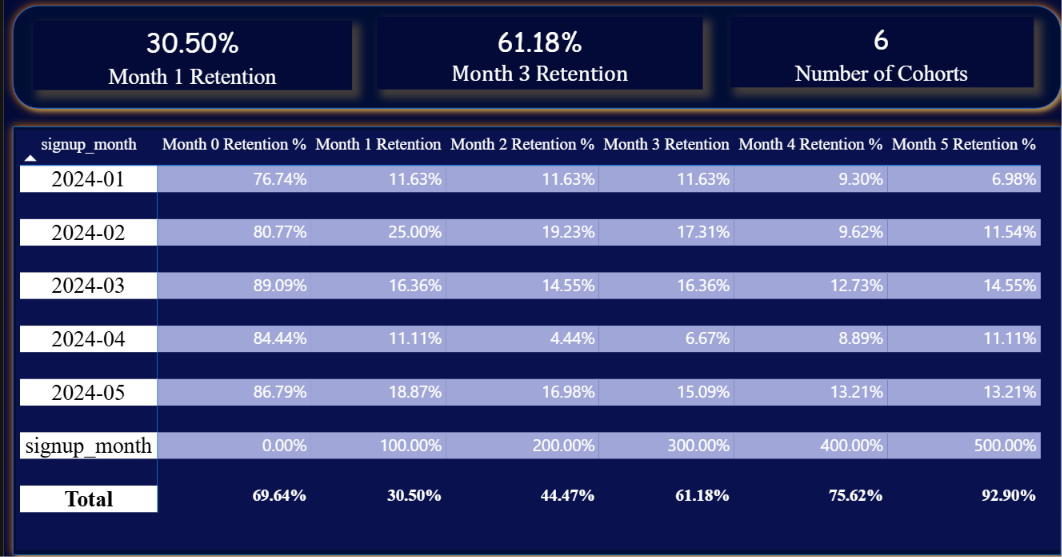

This screenshot's page, from the dashboard's own definition file:
{"tool":"powerbi","page":{"name":"Cohort Retention Analysis","canvas":[1280,680],"ordinal":2},"visuals":[{"type":"shape","box":[0,0,1279.8,144.8],"z":0},{"type":"shape","box":[0,144.7,1280,535.7],"z":1000},{"type":"card","fields":{"Values":["DimDate.Month 1 Retention"]},"box":[34.4,28.2,382.8,83.4],"z":2000},{"type":"card","fields":{"Values":["DimDate.Month 3 Retention"]},"box":[447.9,24.5,391.4,87.1],"z":3000},{"type":"card","fields":{"Values":["DimDate.Number of Cohorts"]},"box":[871.2,24.5,364.4,84.7],"z":4000},{"type":"pivotTable","fields":{"Rows":["saas_product_analytics cohort_retention.signup_month"],"Values":["DimDate.Month 0 Retention %","DimDate.Month 1 Retention","DimDate.Month 2 Retention %","DimDate.Month 3 Retention","DimDate.Month 4 Retention %","DimDate.Month 5 Retention %"]},"box":[13.9,160,1253.6,505],"z":5000}]}

Visuals, with their boxes in screenshot pixels (x1, y1, x2, y2), scaled from the page's 1280x680 canvas onto the 1062x557 screenshot:
shape: crop(0, 0, 1061, 119)
shape: crop(0, 119, 1061, 556)
card - DimDate.Month 1 Retention: crop(29, 23, 346, 91)
card - DimDate.Month 3 Retention: crop(372, 20, 696, 91)
card - DimDate.Number of Cohorts: crop(723, 20, 1025, 89)
pivotTable - saas_product_analytics cohort_retention.signup_month x DimDate.Month 0 Retention %: crop(12, 131, 1052, 545)
